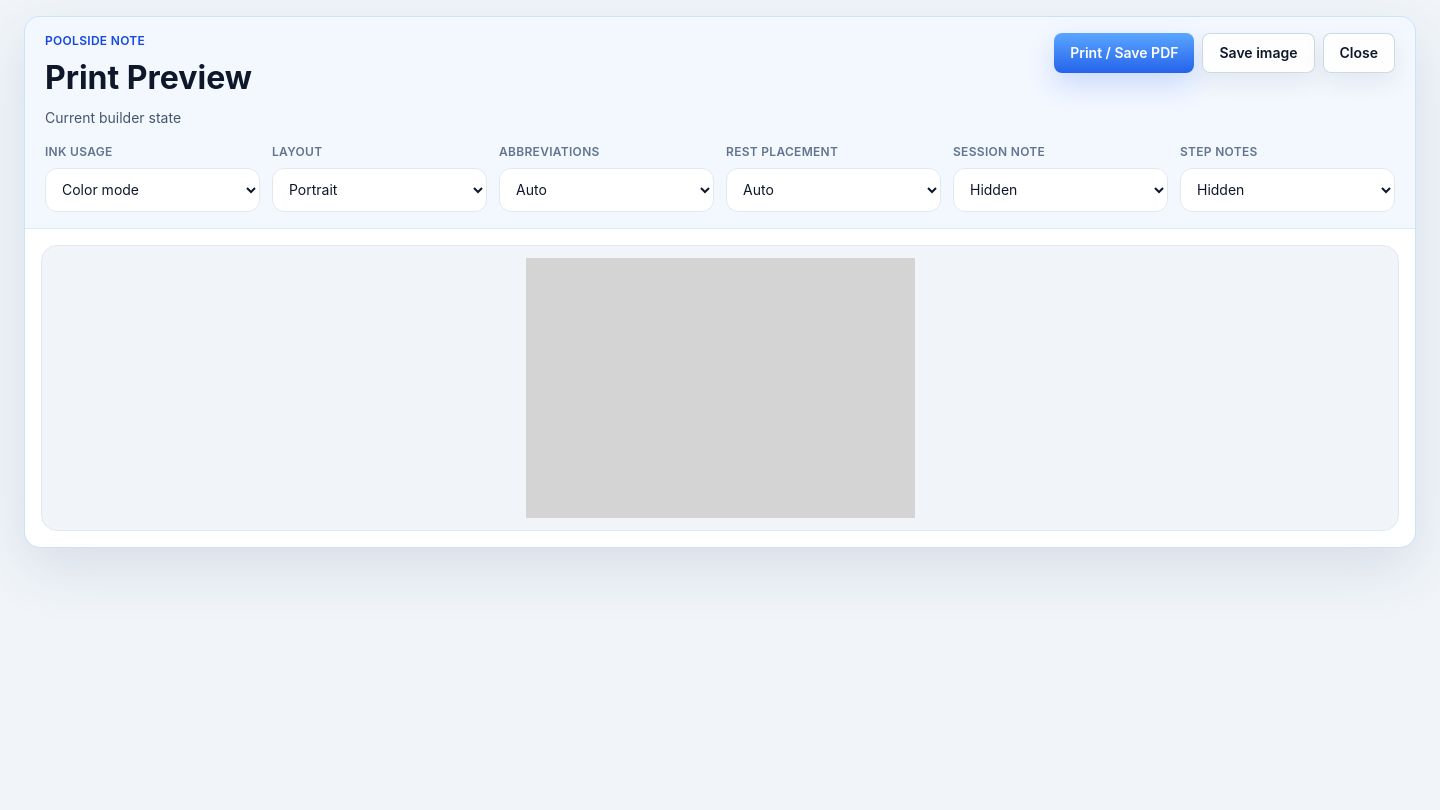
PoolsidePreviewPageClient › downloads a PNG on desktop fallback
The image size is (1440, 810).
Click the button with test id "poolside-preview-save-image" at coordinates (1258, 53), box [1202,33,1314,73]
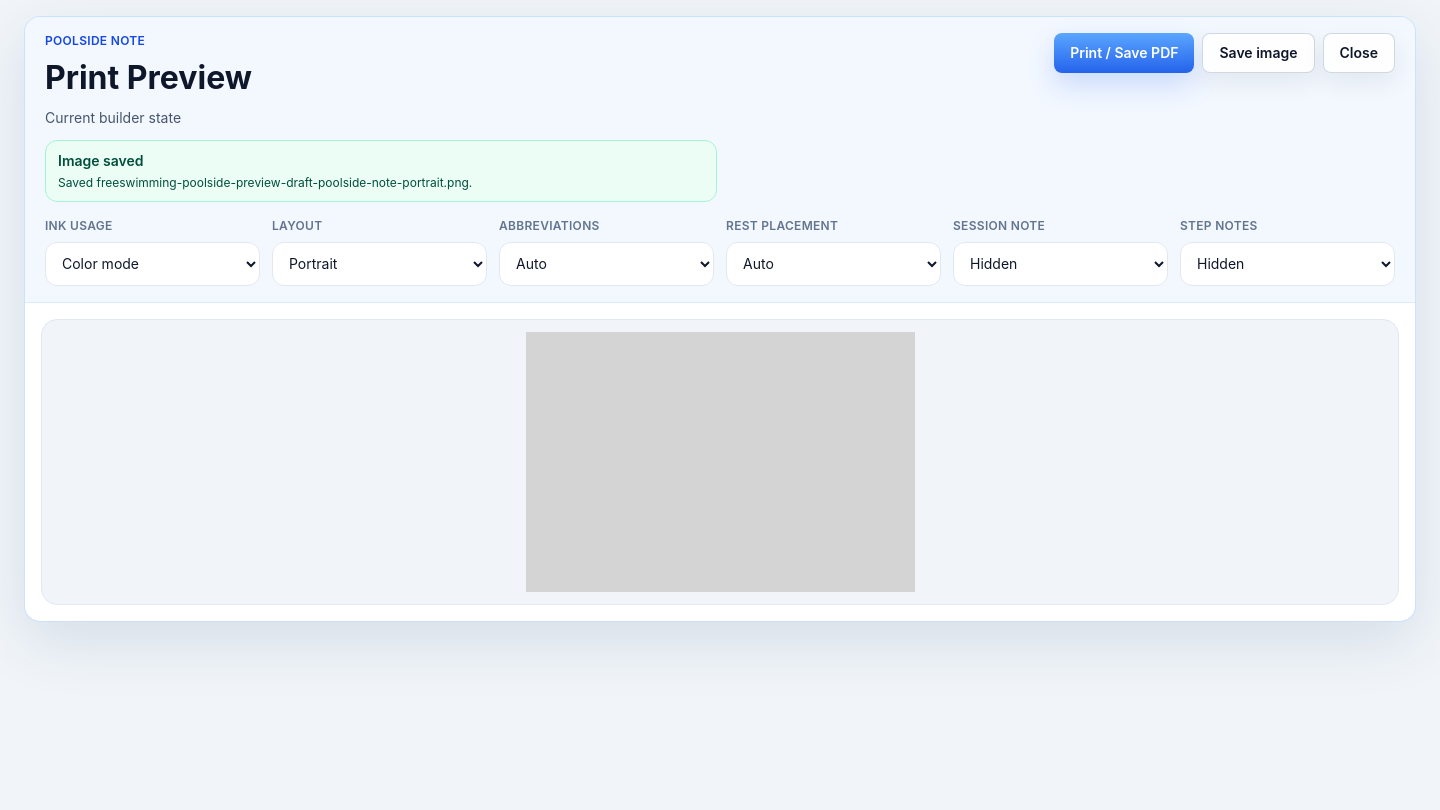
expect the message with test id "poolside-preview-save-image-notice" shows "Image saved": met, box [58,152,144,169]
expect the message with test id "poolside-preview-save-image-notice" shows "Saved freeswimming-poolside-preview-draft-poolside-note-portrait.png.": met, box [58,175,472,190]
